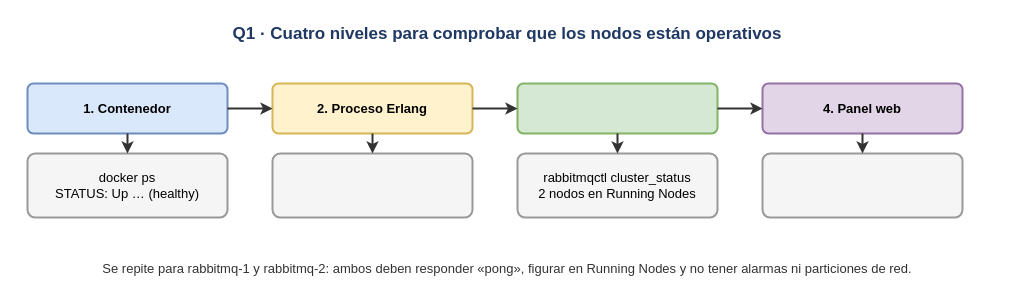
Image size: 1014x305. Some labels were removed from this diagram. Each missing label, with the centre of its shape:
"3. Clúster" goes at [617,108].
":15672 → Overview → Nodes semáforo verde en ambos" goes at [862,185].
"rabbitmq-diagnostics ping check_running" goes at [372,185].
